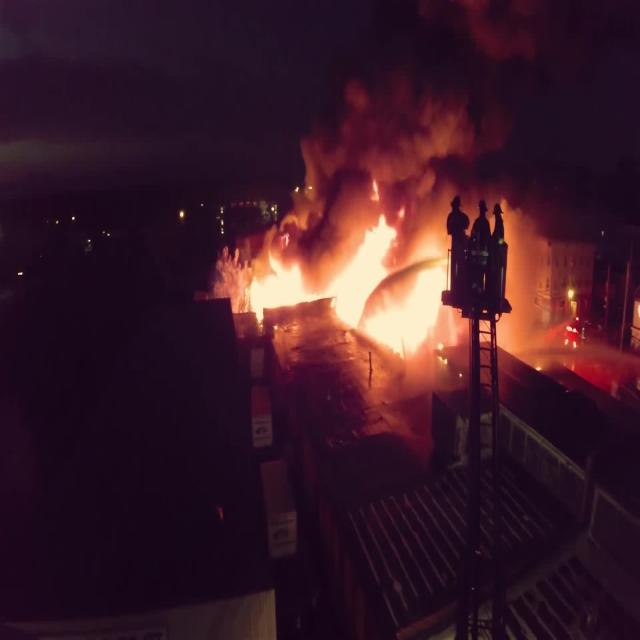Fire: (225, 228, 445, 354)
Smoke: (233, 0, 540, 280)
